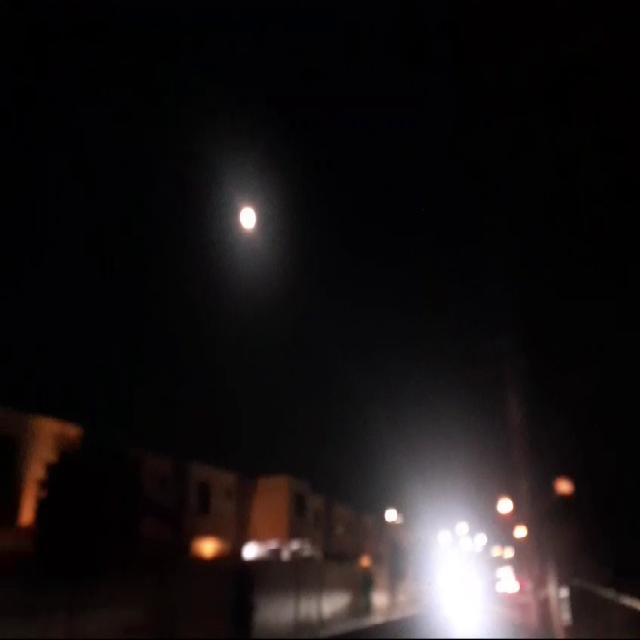moon: (269, 199, 288, 233)
